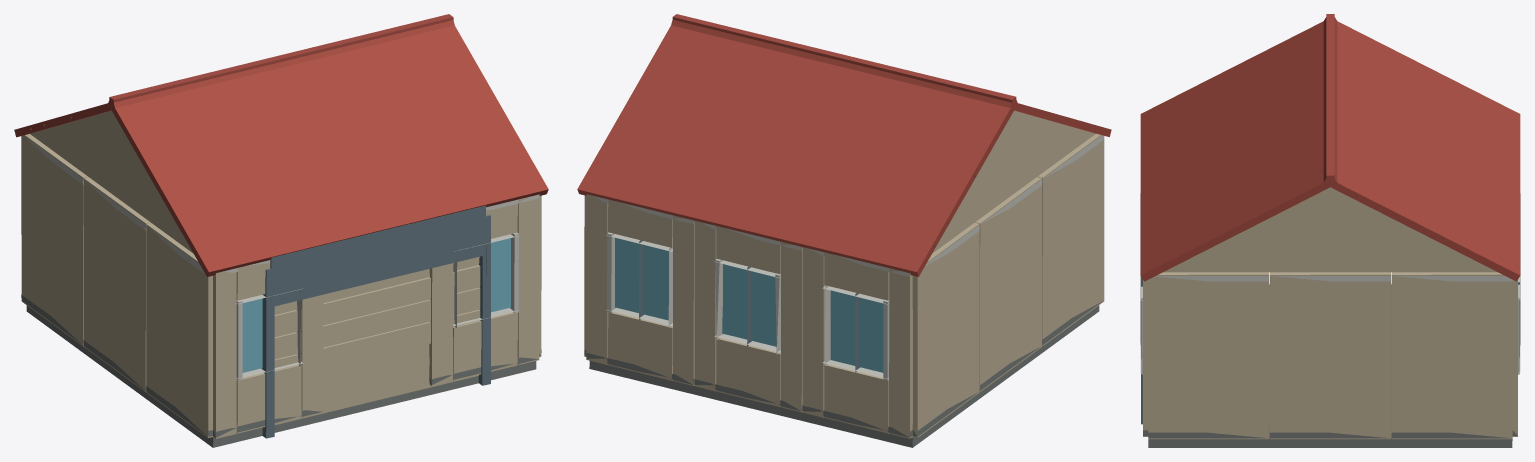
File: architecture-garage.lod2.glb
3 renders of one model, left to right at view 1: azimuth 30°, elevation 25°; view 2: azimuth 150°, elevation 25°; view 3: azimuth 270°, elevation 25°, orthographic. The views are drawn at different scales.
Visible parts, largest first — view 1: architecture-garage__body, architecture-garage__loading_door; view 2: architecture-garage__body; view 3: architecture-garage__body.
Boxes of the visible parts, <box> form: architecture-garage__body: <box>14,14,548,447</box>; architecture-garage__loading_door: <box>274,256,480,424</box>; architecture-garage__body: <box>577,14,1111,447</box>; architecture-garage__body: <box>1140,14,1520,447</box>.
Bounding box in the file's own units: 6.33 × 5.01 × 6.25.
